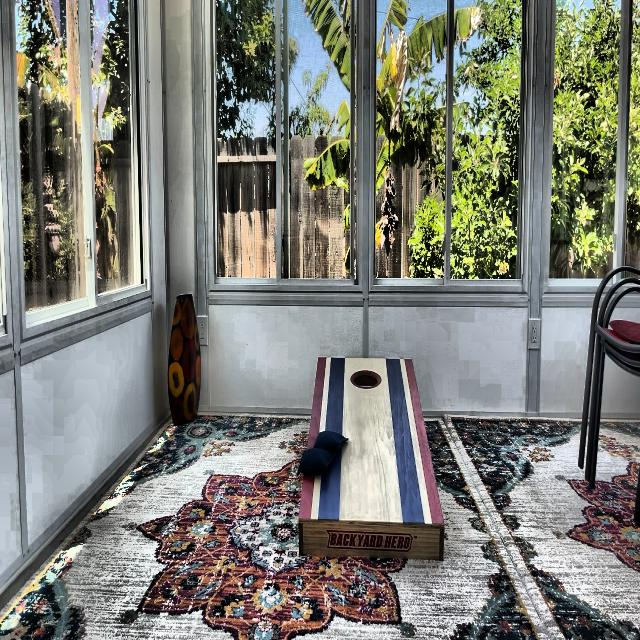blue-bean-bag: (298, 449, 336, 473), (314, 430, 348, 449)
board: (311, 358, 420, 522)
hole: (350, 368, 382, 390)
